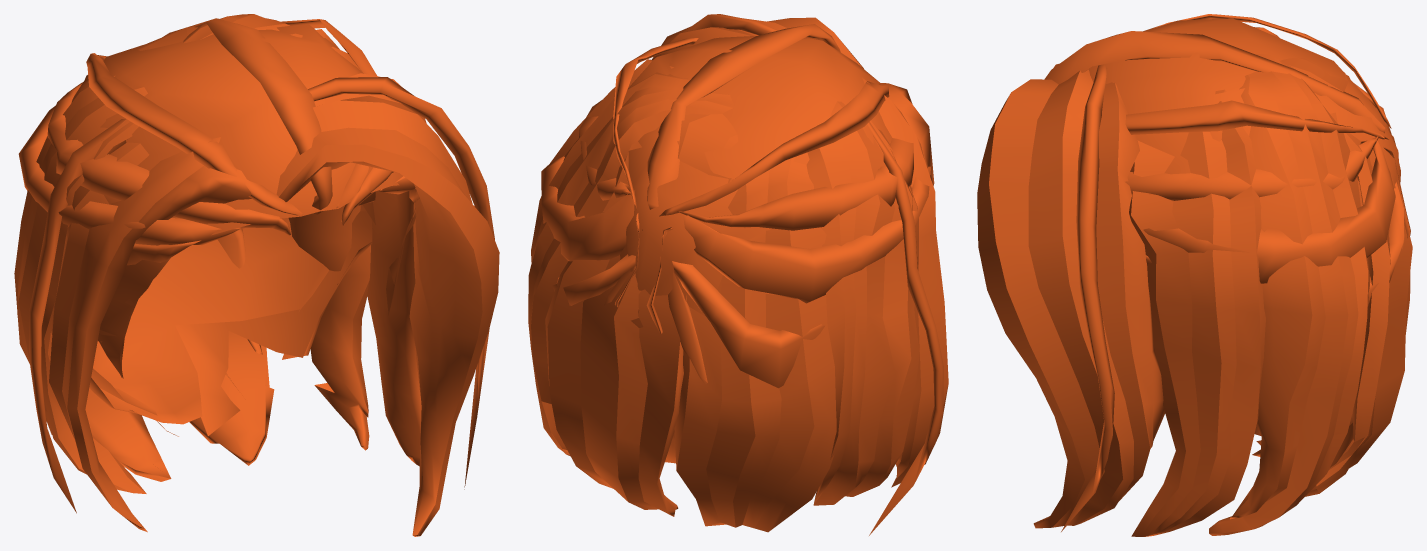
File: yemekHair.fbx
3 views of the same model, side by side, from view 1: azimuth 30°, elevation 25°; view 2: azimuth 150°, elevation 25°; view 3: azimuth 270°, elevation 25° (orthographic). The views are drawn at different scales.
Visible parts, largest first — view 1: hair; view 2: hair; view 3: hair.
Boxes of the visible parts, x1,y1,x2,y2 form: hair: (14,14,499,536); hair: (528,14,948,535); hair: (977,14,1412,536).
Bounding box in the file's own units: 153 × 166 × 147.
